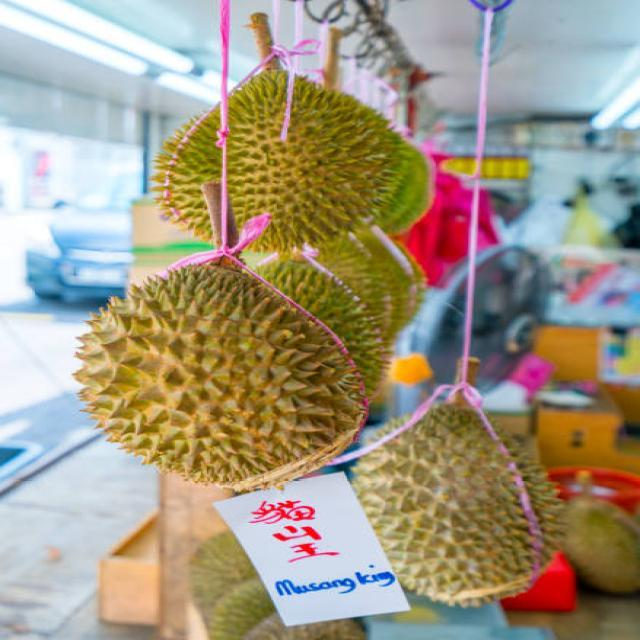mature: (75, 265, 366, 489), (352, 402, 563, 606)
